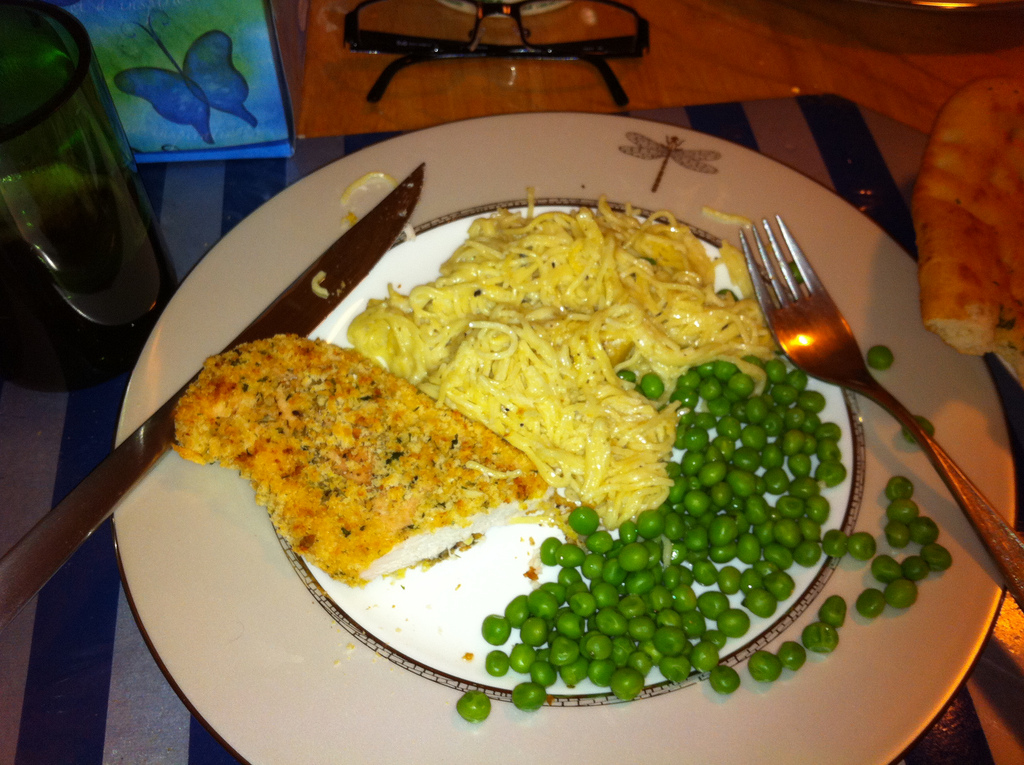boiled peas: (539, 366, 943, 714)
